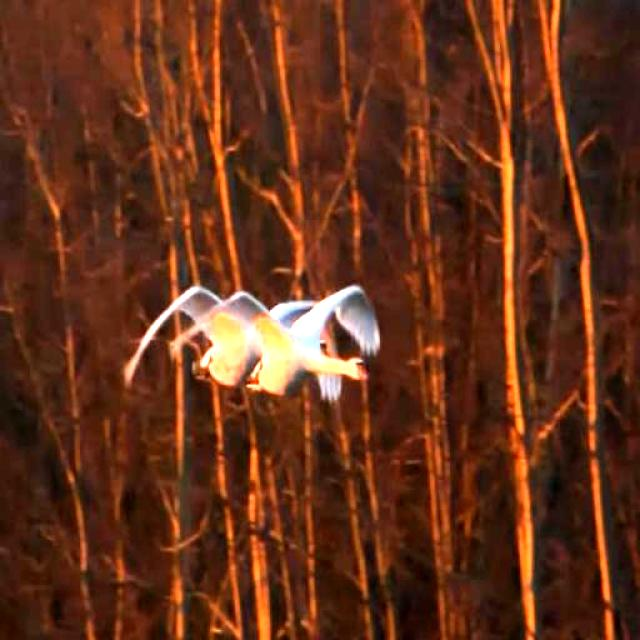airplane: (129, 276, 345, 405), (224, 291, 381, 408)
